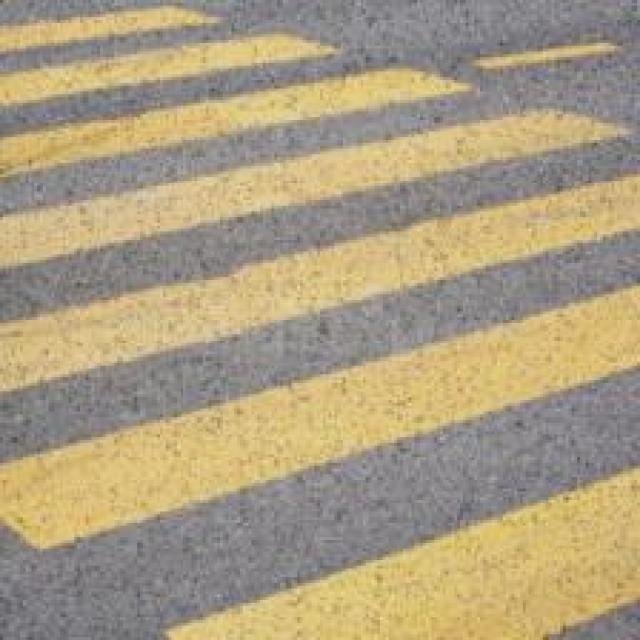obstacle: (15, 5, 640, 640)
